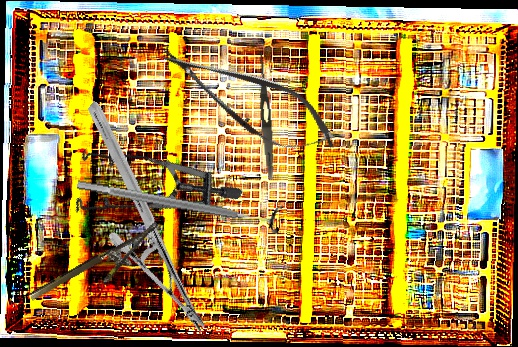Dressing Forceps: (254, 49, 277, 180)
Fixation Ring: (74, 168, 284, 236)
Micro Scissor: (146, 27, 349, 172)
Needle Holder: (19, 100, 275, 333), (27, 221, 171, 319)
Speculum: (51, 98, 244, 286)
